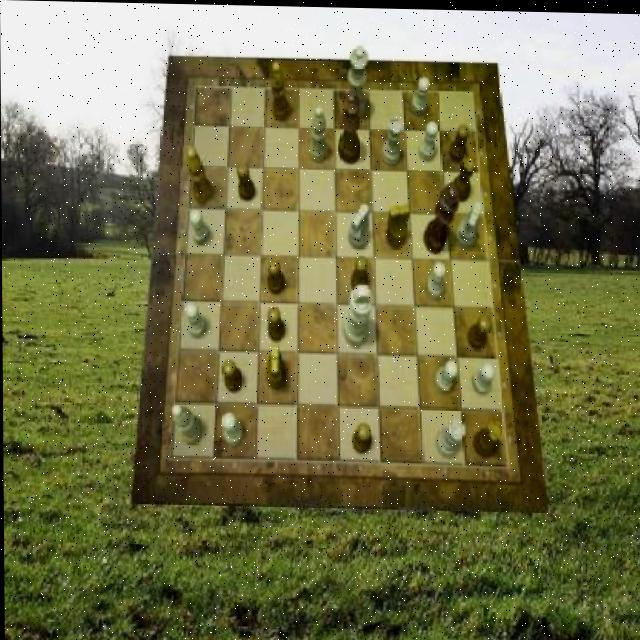bishop: (187, 146, 212, 203), (270, 62, 290, 122)
black-bishop: (421, 178, 458, 252)
black-king: (385, 202, 409, 248), (265, 343, 287, 389)
black-knight: (467, 313, 491, 348), (235, 163, 255, 201), (448, 122, 468, 160), (221, 361, 244, 393), (351, 422, 372, 453), (267, 305, 285, 341), (350, 254, 368, 290), (266, 257, 283, 293)
black-pawn: (336, 91, 361, 164)
black-queen: (450, 153, 477, 201), (471, 417, 503, 455)
black-rook: (170, 403, 203, 443), (309, 105, 328, 162)
white-bishop: (343, 283, 373, 346)
white-king: (454, 200, 481, 247), (347, 201, 368, 247)
white-knight: (434, 358, 458, 392), (220, 411, 243, 446), (184, 302, 207, 337), (418, 120, 438, 160), (410, 75, 430, 113), (472, 360, 495, 393), (425, 260, 445, 297), (189, 208, 209, 243)
white-pawn: (341, 45, 368, 120)
white-queen: (434, 417, 464, 456), (381, 116, 401, 164)
